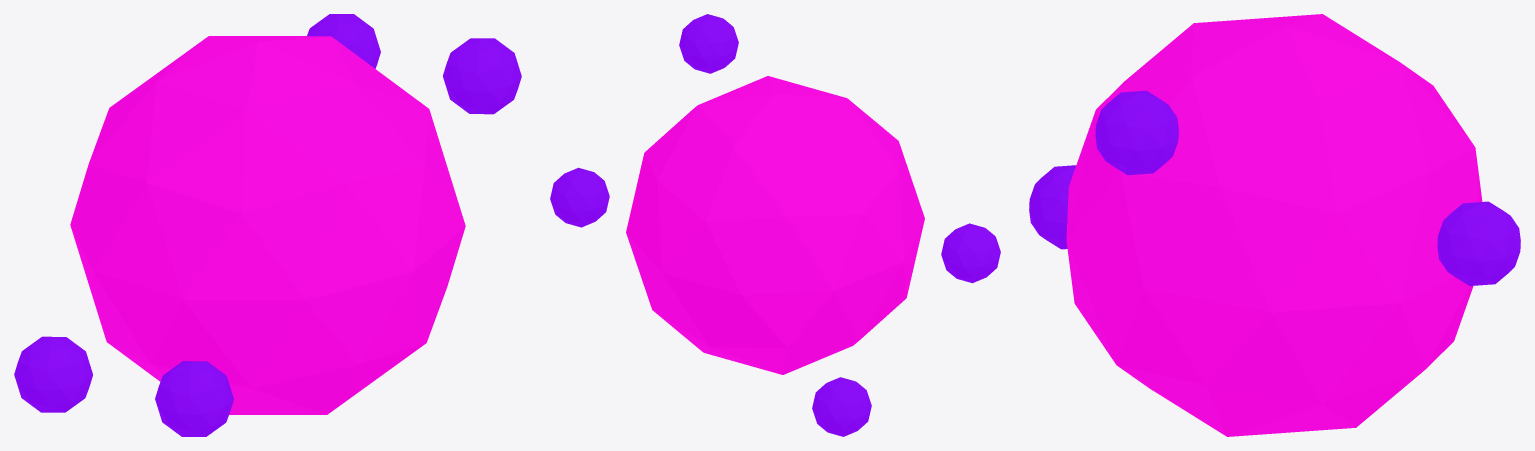
Rendered from homing projectile.fbx.
The picture shows the model from 3 angles, left to right: view 1: azimuth 30°, elevation 25°; view 2: azimuth 150°, elevation 25°; view 3: azimuth 270°, elevation 25°; orthographic projection. The views are drawn at different scales.
Parts seen in each view (by area): view 1: Icosphere; view 2: Icosphere; view 3: Icosphere.
Part boxes in pixels (x1,y1,x2,y2): Icosphere: (14,14,521,436); Icosphere: (550,14,1000,436); Icosphere: (1029,14,1520,436).
Size of the model in its own units: 233 by 215 by 225.
